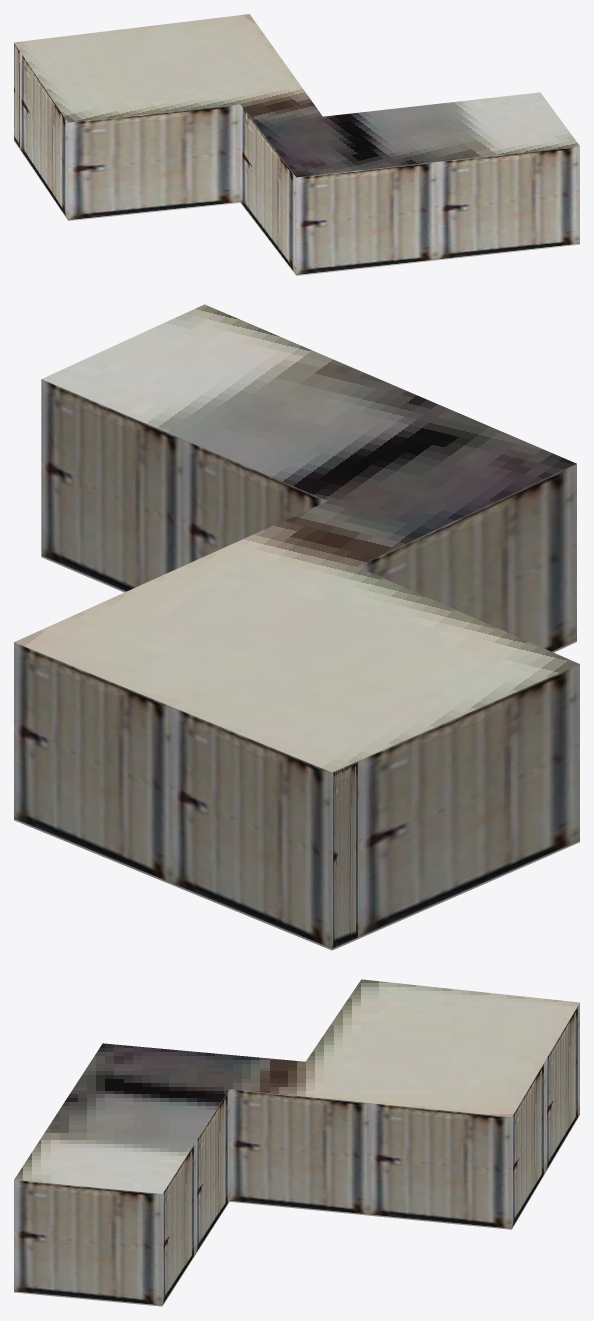
File: T_1T5QV4NUPS.dae
3 renders of one model, top to bottom at view 1: azimuth 30°, elevation 25°; view 2: azimuth 150°, elevation 25°; view 3: azimuth 270°, elevation 25°, orthographic. The views are drawn at different scales.
Visible parts, largest first — view 1: SketchUp (×6); view 2: SketchUp (×6); view 3: SketchUp (×5).
Part boxes in pixels (x1,y1,x2,y2): SketchUp (×6): (14,14,579,275); SketchUp (×6): (14,304,579,950); SketchUp (×5): (14,979,579,1306).
Size of the model in its own units: 14.02 by 15.62 by 3.43.
2 materials, 2 textured.
